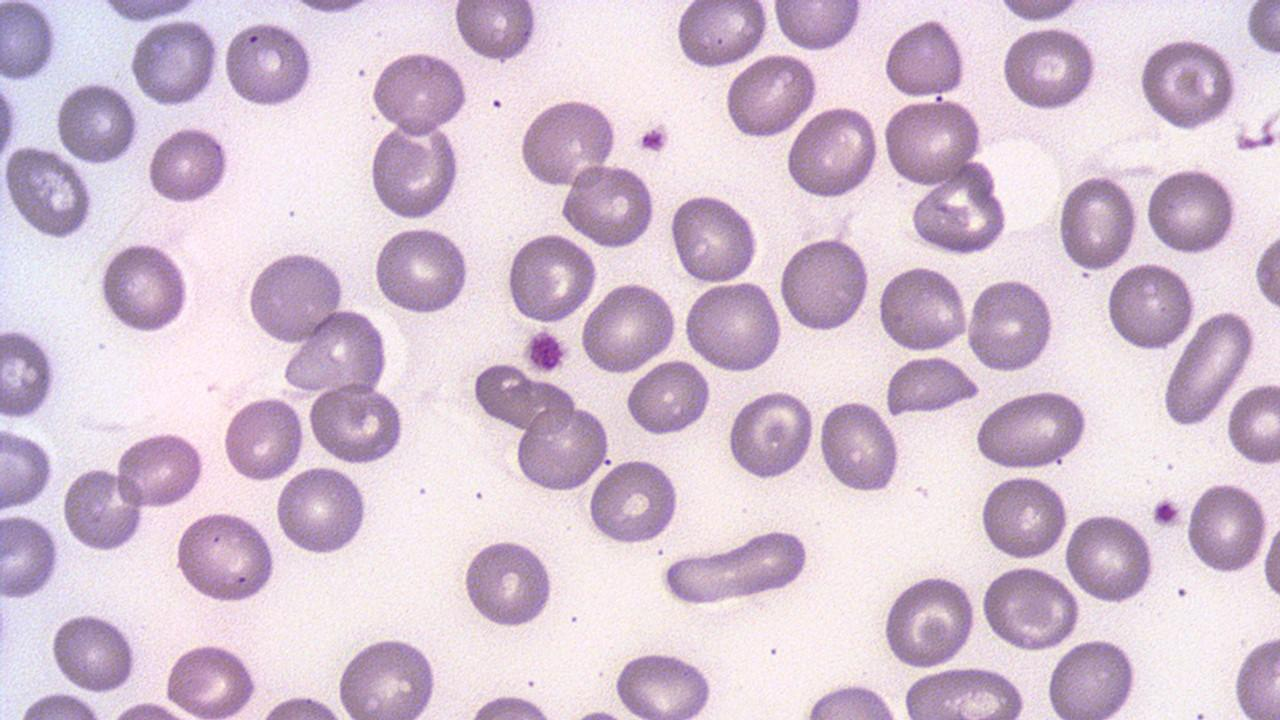Platelets: (522, 327, 568, 375), (635, 122, 672, 156)
RBC: (658, 529, 814, 609), (1159, 309, 1255, 427), (368, 114, 464, 222), (242, 247, 346, 346), (173, 509, 277, 606), (682, 277, 783, 375), (908, 161, 1010, 258), (1136, 35, 1238, 132), (975, 388, 1091, 472), (784, 104, 882, 202), (776, 234, 872, 334), (283, 307, 392, 395), (516, 97, 620, 189), (880, 96, 984, 188), (880, 571, 976, 670), (578, 282, 678, 377), (334, 630, 443, 717), (460, 534, 557, 631), (964, 274, 1056, 375), (97, 238, 192, 335), (372, 224, 472, 316), (272, 463, 369, 557), (980, 562, 1081, 652), (368, 48, 470, 137), (1061, 512, 1157, 606), (221, 16, 317, 110), (1144, 163, 1240, 256), (3, 143, 95, 240), (586, 456, 683, 548), (558, 160, 656, 251), (1104, 258, 1198, 352), (722, 50, 819, 141), (998, 26, 1101, 111), (668, 191, 762, 284), (505, 231, 598, 325), (726, 387, 816, 483), (512, 403, 609, 492), (1182, 478, 1270, 576), (816, 395, 902, 494), (1055, 171, 1139, 272), (878, 262, 969, 354), (1044, 635, 1142, 719), (306, 383, 406, 465), (128, 18, 219, 108), (979, 472, 1069, 562), (48, 609, 140, 695), (61, 462, 147, 554), (221, 392, 306, 485), (54, 78, 140, 168), (159, 641, 261, 716), (115, 428, 207, 510), (608, 650, 718, 718), (624, 356, 714, 439), (882, 15, 968, 101), (145, 123, 231, 206), (672, 0, 770, 71), (899, 665, 1030, 717), (882, 353, 982, 417), (452, 1, 540, 65), (1, 324, 59, 420), (0, 512, 61, 600), (770, 1, 864, 54), (0, 0, 58, 84), (1225, 380, 1279, 468), (0, 425, 55, 511), (800, 679, 906, 720), (1232, 630, 1280, 716), (464, 690, 560, 720), (94, 0, 206, 25), (16, 690, 107, 720), (1252, 225, 1280, 316), (1260, 505, 1280, 613), (994, 0, 1084, 24), (1243, 2, 1279, 60), (0, 73, 20, 172)
